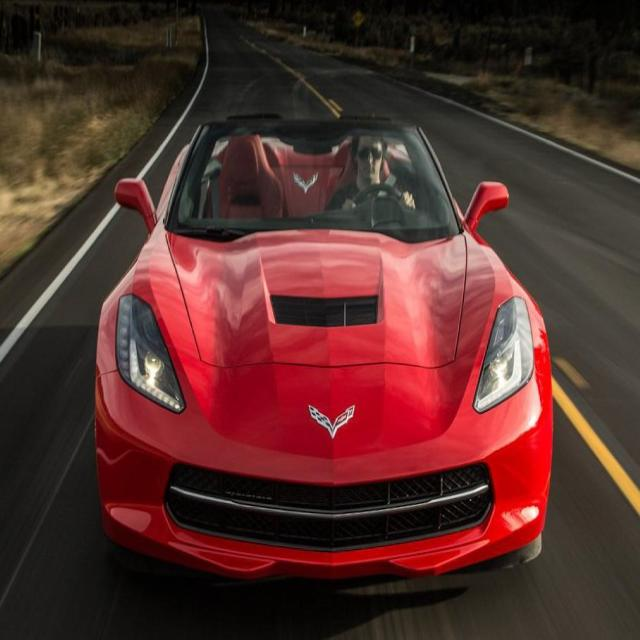front_bumper: (91, 356, 554, 582)
front_glass: (164, 116, 463, 244)
front_left_side_light: (470, 292, 535, 415)
front_left_side_mirror: (463, 178, 510, 233)
front_right_side_light: (109, 287, 189, 416)
front_right_side_mirror: (109, 174, 159, 227)
